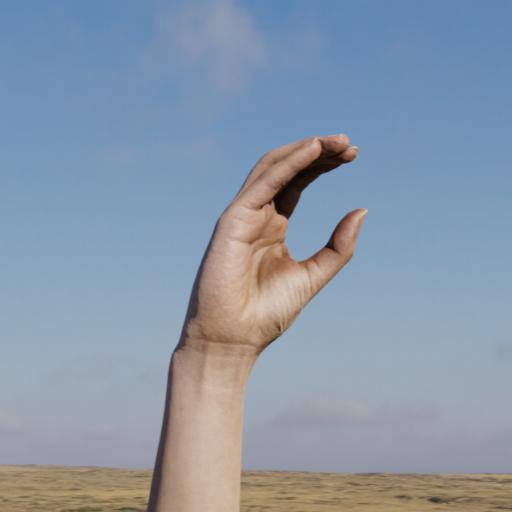C: (134, 105, 388, 362)
